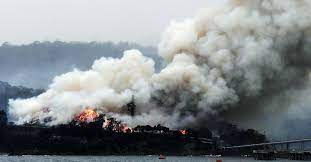smoke: (3, 3, 311, 125)
